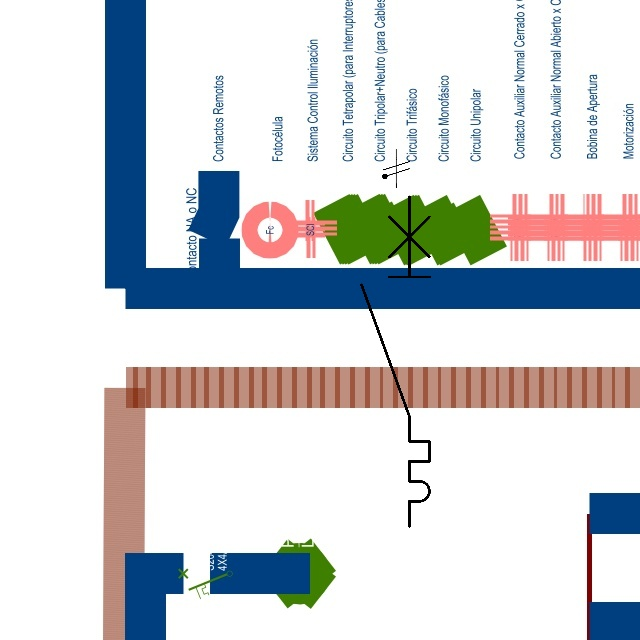interruptor_termomagnetico: (353, 188, 438, 535)
